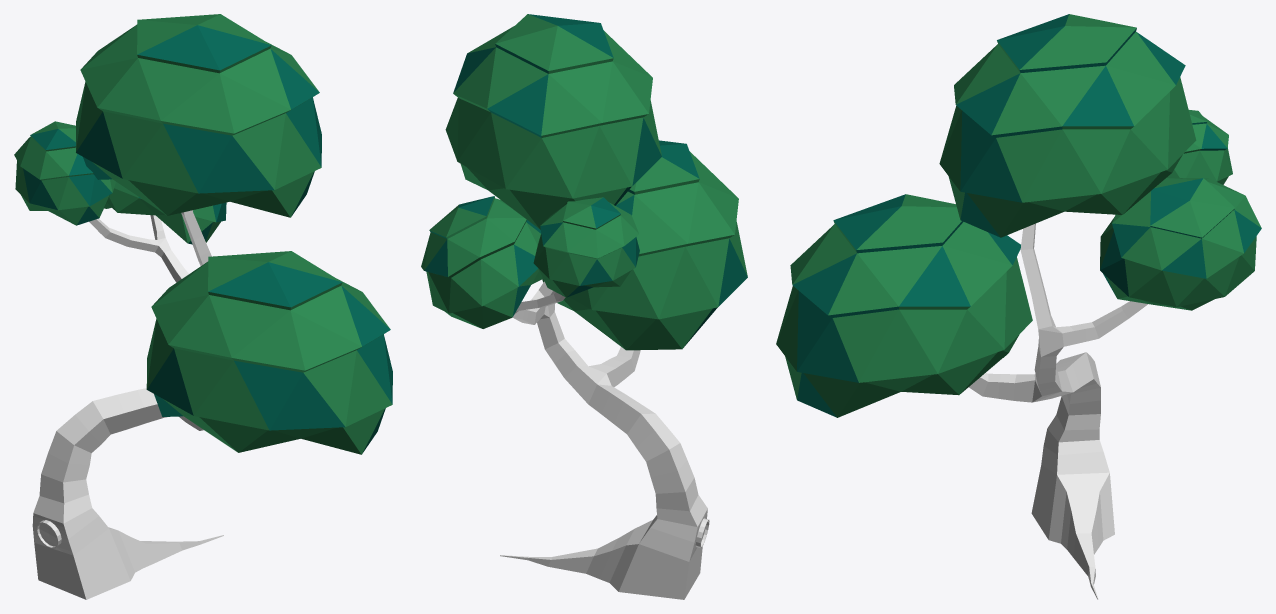
The model's file is 2do arbol.fbx.
The picture shows the model from 3 angles, left to right: view 1: azimuth 30°, elevation 25°; view 2: azimuth 150°, elevation 25°; view 3: azimuth 270°, elevation 25°; orthographic projection. The views are drawn at different scales.
Parts seen in each view (by area): view 1: Icosphere, Cube; view 2: Icosphere, Cube; view 3: Icosphere, Cube.
Part boxes in pixels (x1,y1,x2,y2): Icosphere: [14, 14, 392, 454]; Cube: [32, 210, 223, 599]; Icosphere: [421, 14, 747, 350]; Cube: [500, 281, 709, 599]; Icosphere: [776, 14, 1261, 417]; Cube: [969, 223, 1148, 599].
Bounding box in the file's own units: 910 × 1800 × 1435.
